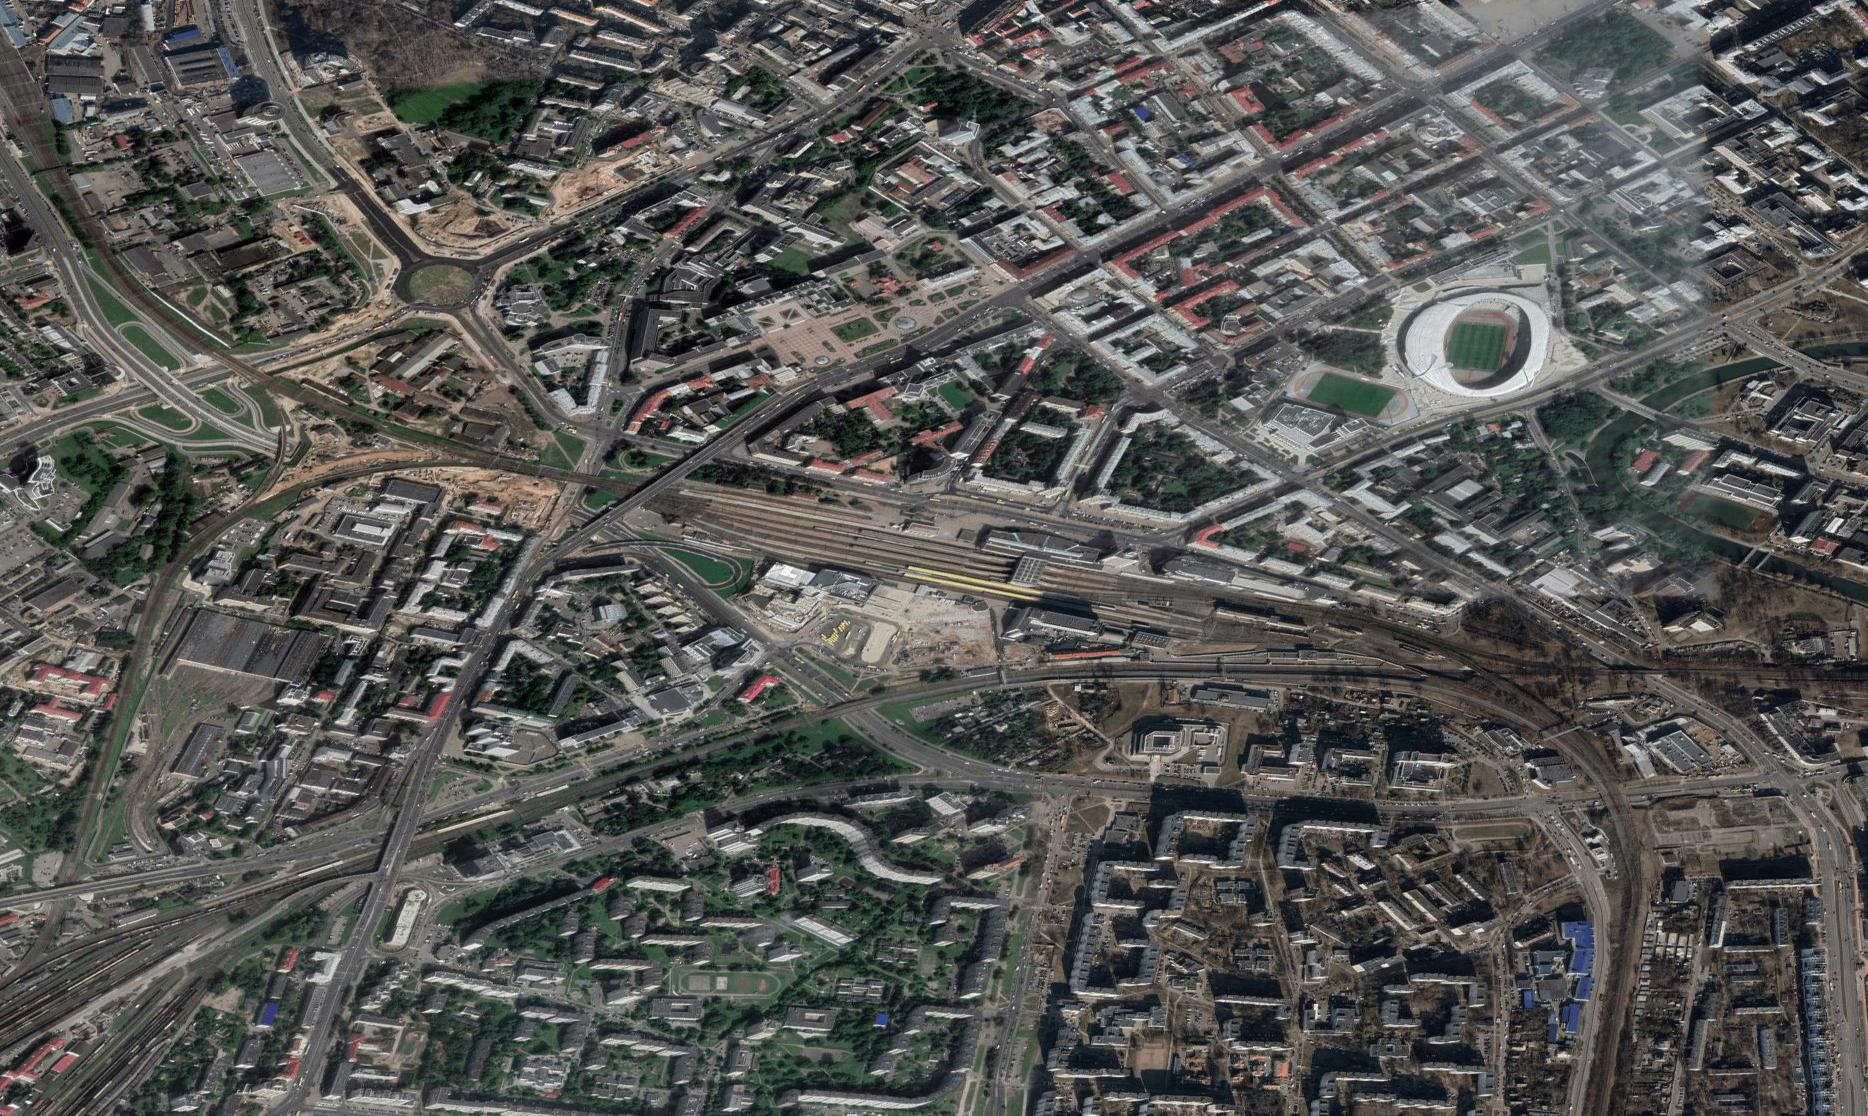bridge: (628, 472, 667, 504), (828, 694, 876, 715)
motorway: (1726, 719, 1857, 899), (598, 407, 773, 525), (404, 628, 509, 804), (341, 805, 422, 970), (282, 969, 357, 1116), (502, 519, 593, 627), (1821, 899, 1865, 1116)
train_station: (764, 472, 1058, 623)
